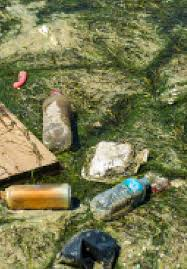plastic_bottle: (90, 174, 151, 222)
